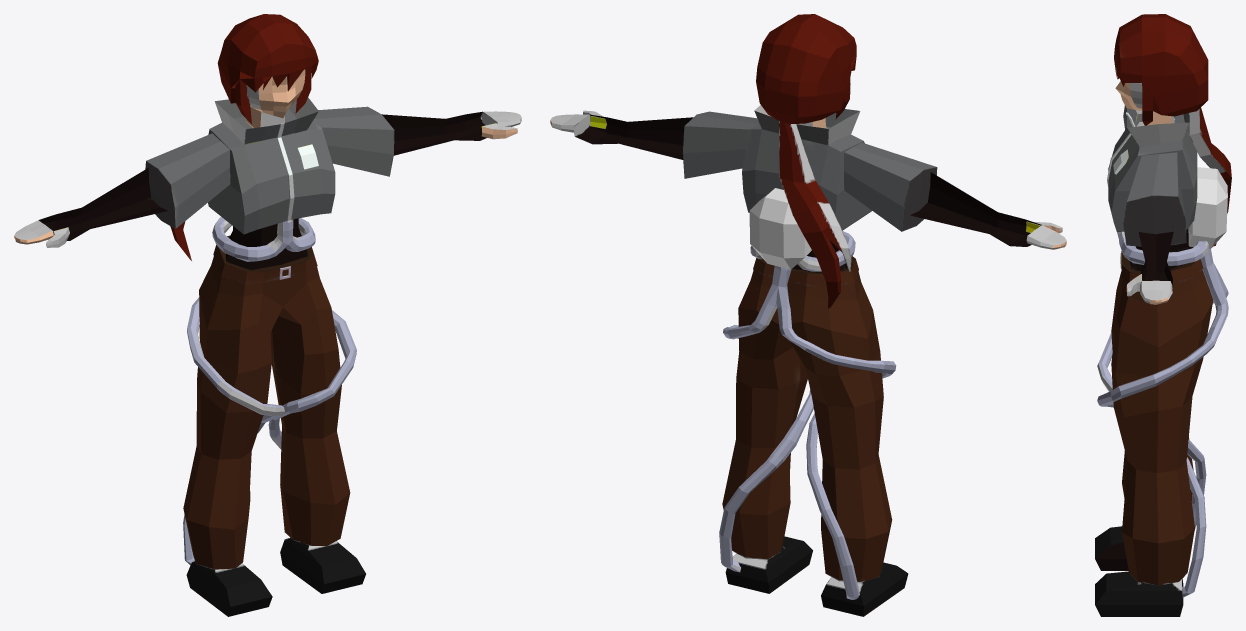
Rendered from Iris.fbx.
The picture shows the model from 3 angles, left to right: view 1: azimuth 30°, elevation 25°; view 2: azimuth 150°, elevation 25°; view 3: azimuth 270°, elevation 25°; orthographic projection.
Parts seen in each view (by area): view 1: Cylinder.001; view 2: Cylinder.001, Cube.001; view 3: Cylinder.001, Cube.001.
Boxes of the visible parts, bbox=[...] form: Cylinder.001: bbox=[14, 14, 521, 616]; Cylinder.001: bbox=[550, 14, 1066, 616]; Cube.001: bbox=[749, 188, 811, 269]; Cylinder.001: bbox=[1095, 14, 1231, 616]; Cube.001: bbox=[1188, 167, 1227, 248].
Size of the model in its own units: 219 by 233 by 51.09.
1 material, 1 textured.
